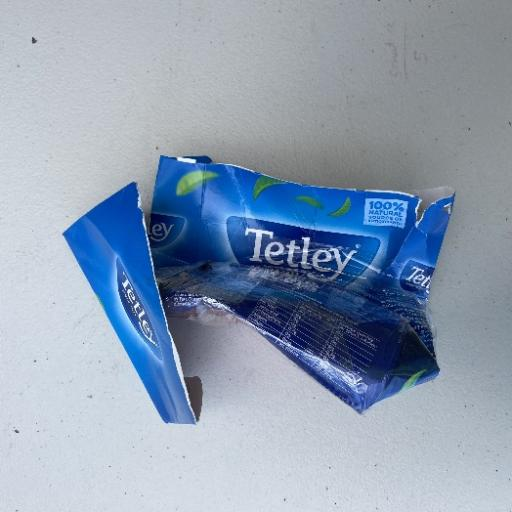Cardboard: (145, 154, 457, 416), (60, 180, 198, 426)
